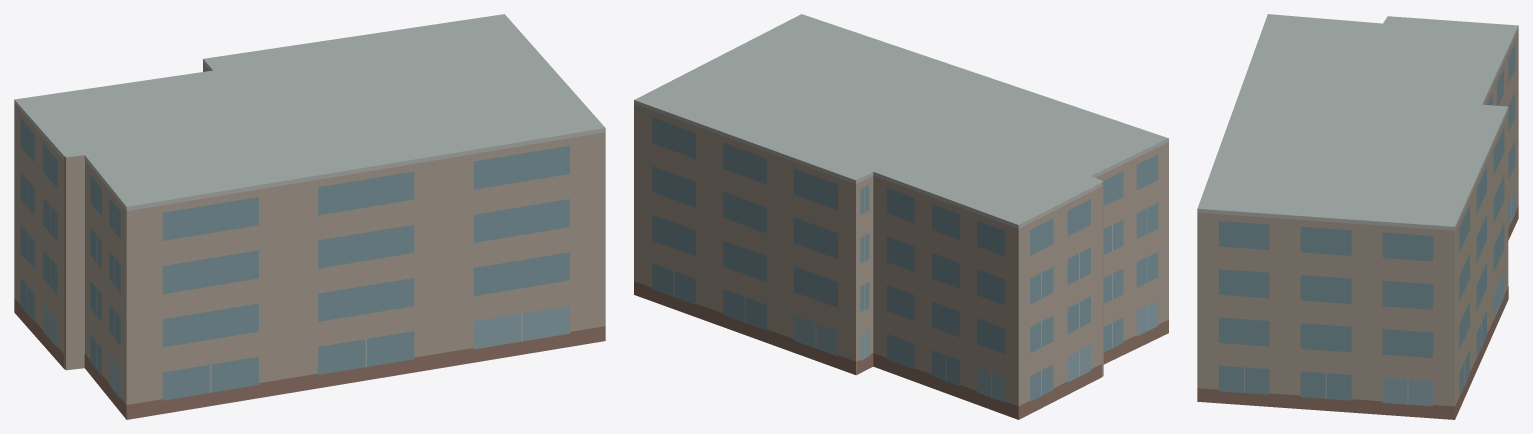
The model's file is survey-upis-32676704.glb.
3 renders of one model, left to right at view 1: azimuth 30°, elevation 25°; view 2: azimuth 150°, elevation 25°; view 3: azimuth 270°, elevation 25°, orthographic. The views are drawn at different scales.
Parts seen in each view (by area): view 1: survey-upis-32676704.tmp; view 2: survey-upis-32676704.tmp; view 3: survey-upis-32676704.tmp.
Part boxes in pixels (<box>): survey-upis-32676704.tmp: <box>14,14,605,419</box>; survey-upis-32676704.tmp: <box>634,14,1168,419</box>; survey-upis-32676704.tmp: <box>1197,14,1518,419</box>.
Bounding box in the file's own units: 28.86 × 12.2 × 18.41.
